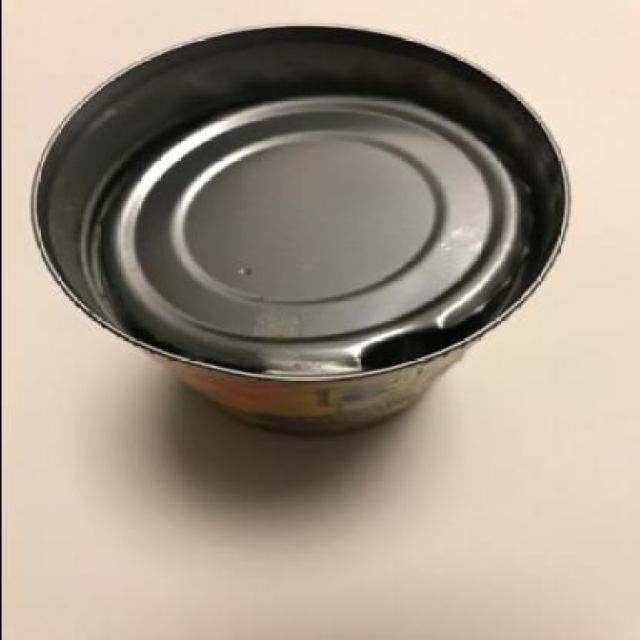METAL: (27, 23, 568, 435)
